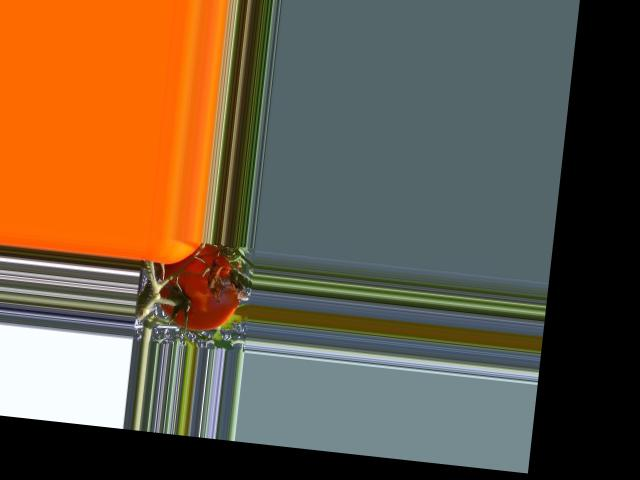tomato: (155, 240, 246, 335)
